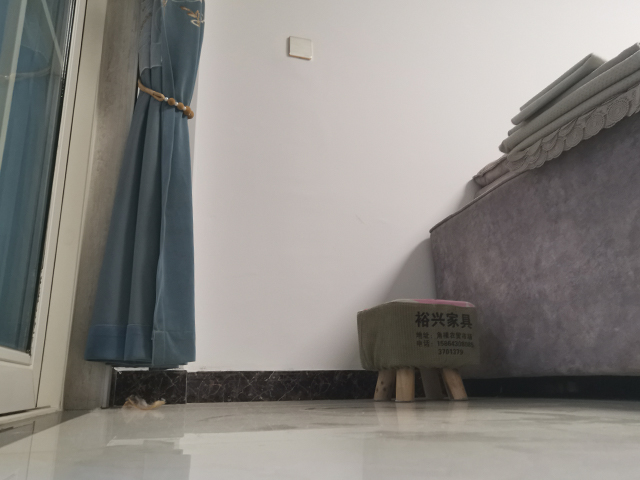curtain: (81, 1, 207, 372)
sofa: (427, 85, 640, 399)
stool: (356, 295, 483, 403)
